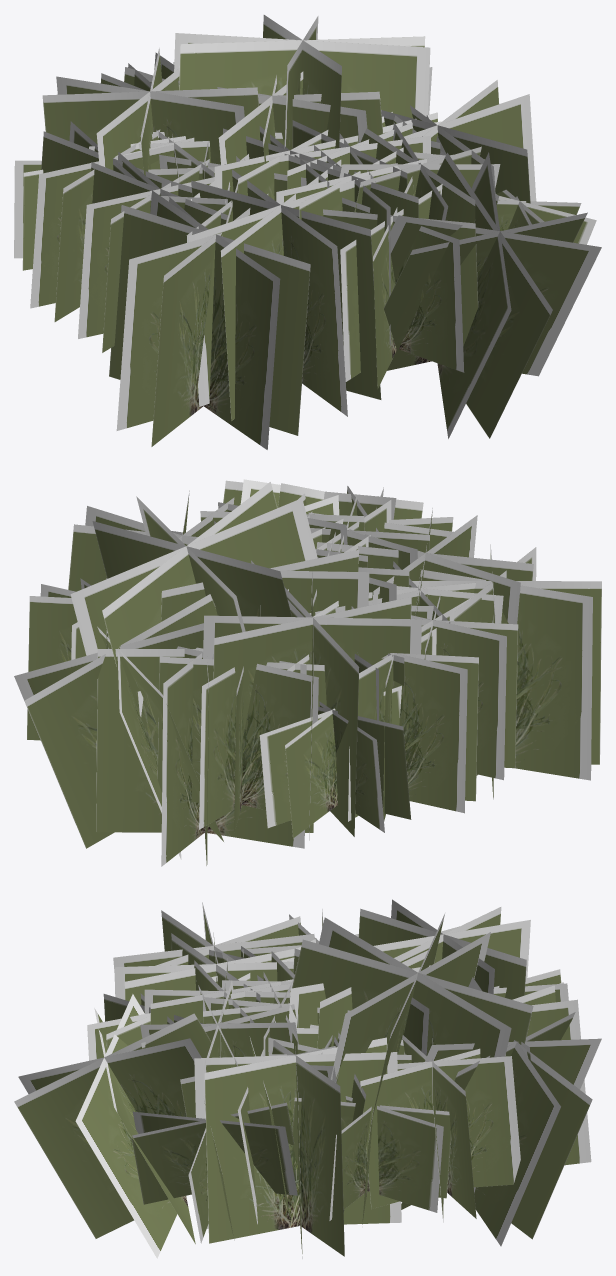
Rendered from TerrainGrass_Bush00.fbx.
The picture shows the model from 3 angles, top to bottom: view 1: azimuth 30°, elevation 25°; view 2: azimuth 150°, elevation 25°; view 3: azimuth 270°, elevation 25°; orthographic projection. The views are drawn at different scales.
Visible parts, largest first — view 1: TerrainGrass00__28_, TerrainGrass00__25_, TerrainGrass00__26_, TerrainGrass00__7_, TerrainGrass00__11_, TerrainGrass00__22_, TerrainGrass00__15_, TerrainGrass00__16_, TerrainGrass00__24_, TerrainGrass00__21_, TerrainGrass00__3_, TerrainGrass00__1_ (+7 smaller); view 2: TerrainGrass00__7_, TerrainGrass00__28_, TerrainGrass00__27_, TerrainGrass00__22_, TerrainGrass00__23_, TerrainGrass00__14_, TerrainGrass00__15_, TerrainGrass00__19_, TerrainGrass00__16_, TerrainGrass00__26_, TerrainGrass00__21_, TerrainGrass00__13_ (+9 smaller); view 3: TerrainGrass00__25_, TerrainGrass00__24_, TerrainGrass00__7_, TerrainGrass00__23_, TerrainGrass00__13_, TerrainGrass00__17_, TerrainGrass00__18_, TerrainGrass00__22_, TerrainGrass00__26_, TerrainGrass00__28_, TerrainGrass00__21_, TerrainGrass00__3_ (+11 smaller).
Boxes of the visible parts, x1=… form: TerrainGrass00__28_: x1=109, y1=190, x2=310, y2=449; TerrainGrass00__25_: x1=384, y1=152, x2=601, y2=438; TerrainGrass00__26_: x1=188, y1=159, x2=381, y2=420; TerrainGrass00__7_: x1=174, y1=15, x2=430, y2=149; TerrainGrass00__11_: x1=323, y1=176, x2=478, y2=388; TerrainGrass00__22_: x1=42, y1=48, x2=258, y2=175; TerrainGrass00__15_: x1=30, y1=121, x2=173, y2=321; TerrainGrass00__16_: x1=78, y1=152, x2=227, y2=352; TerrainGrass00__24_: x1=381, y1=80, x2=536, y2=207; TerrainGrass00__21_: x1=178, y1=71, x2=383, y2=165; TerrainGrass00__3_: x1=339, y1=122, x2=500, y2=223; TerrainGrass00__1_: x1=276, y1=144, x2=426, y2=345; TerrainGrass00__7_: x1=70, y1=482, x2=317, y2=666; TerrainGrass00__28_: x1=412, y1=544, x2=601, y2=799; TerrainGrass00__27_: x1=96, y1=636, x2=313, y2=866; TerrainGrass00__22_: x1=203, y1=571, x2=421, y2=840; TerrainGrass00__23_: x1=14, y1=594, x2=223, y2=859; TerrainGrass00__14_: x1=157, y1=646, x2=326, y2=832; TerrainGrass00__15_: x1=348, y1=628, x2=478, y2=821; TerrainGrass00__19_: x1=259, y1=685, x2=411, y2=838; TerrainGrass00__16_: x1=411, y1=594, x2=518, y2=780; TerrainGrass00__26_: x1=316, y1=508, x2=533, y2=624; TerrainGrass00__21_: x1=161, y1=521, x2=369, y2=621; TerrainGrass00__13_: x1=27, y1=584, x2=108, y2=740; TerrainGrass00__25_: x1=14, y1=994, x2=220, y2=1258; TerrainGrass00__24_: x1=194, y1=1037, x2=401, y2=1258; TerrainGrass00__7_: x1=288, y1=914, x2=533, y2=1192; TerrainGrass00__23_: x1=401, y1=977, x2=601, y2=1246; TerrainGrass00__13_: x1=360, y1=1035, x2=520, y2=1222; TerrainGrass00__17_: x1=131, y1=1098, x2=297, y2=1243; TerrainGrass00__18_: x1=292, y1=1096, x2=451, y2=1224; TerrainGrass00__22_: x1=358, y1=899, x2=530, y2=999; TerrainGrass00__26_: x1=114, y1=932, x2=300, y2=1009; TerrainGrass00__28_: x1=113, y1=902, x2=314, y2=980; TerrainGrass00__21_: x1=289, y1=948, x2=434, y2=1055; TerrainGrass00__3_: x1=140, y1=980, x2=298, y2=1072.
Size of the model in its own units: 327 by 202 by 378.
